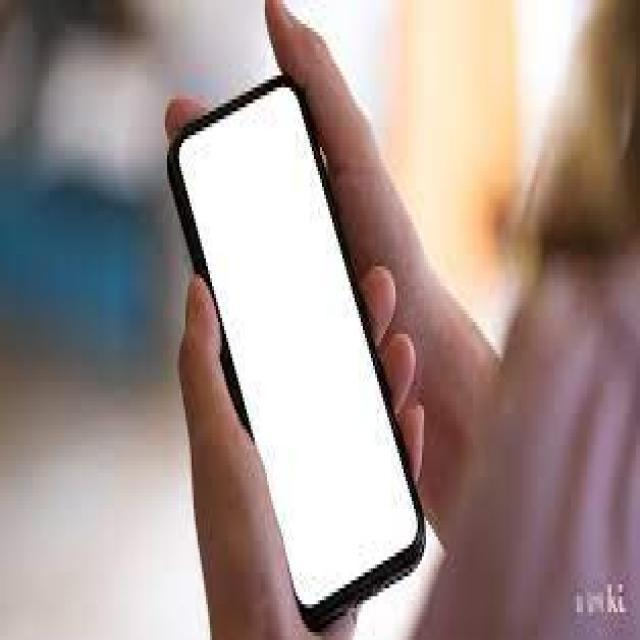Phone: (166, 73, 430, 634)
